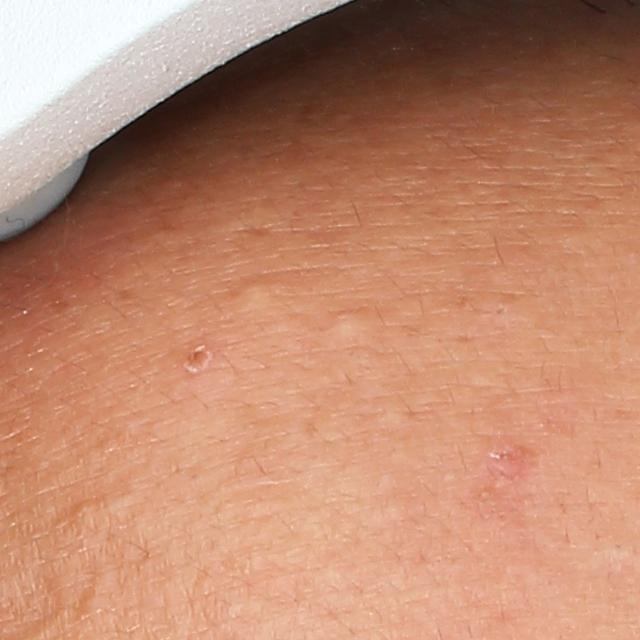comedo: (320, 303, 367, 346), (231, 275, 274, 312), (66, 497, 100, 535)
